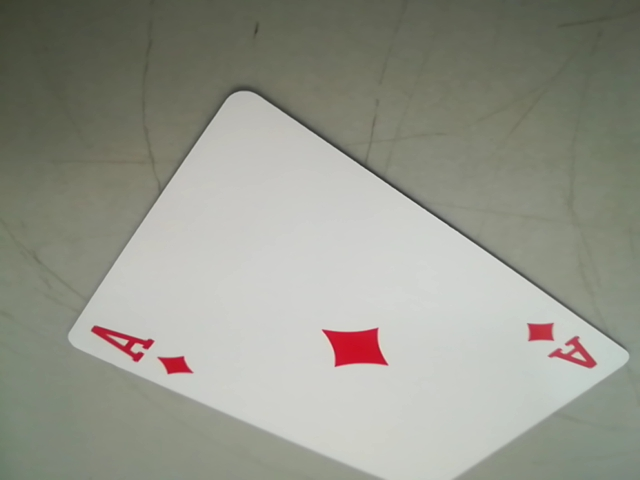fk a: (77, 322, 208, 379), (527, 313, 602, 378)
